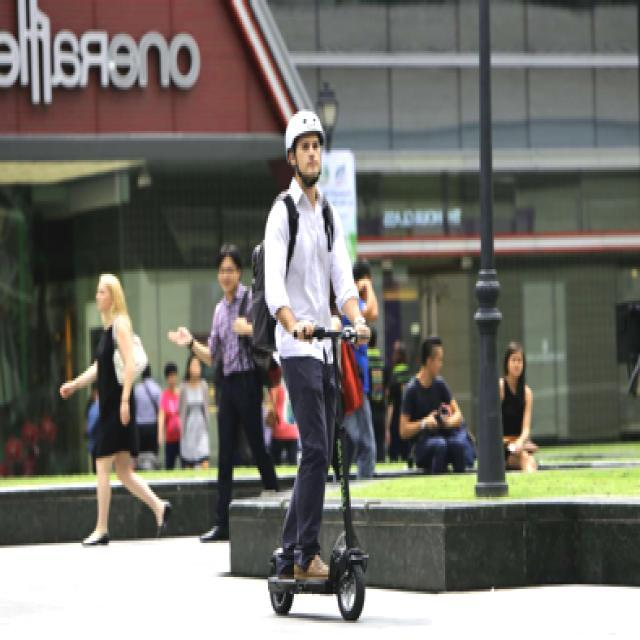Helmet: (278, 92, 333, 198)
